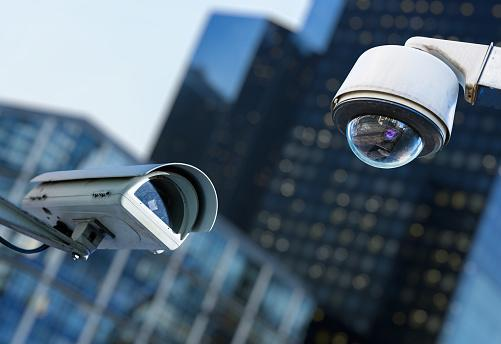camera: (8, 111, 239, 295), (296, 15, 485, 202)
